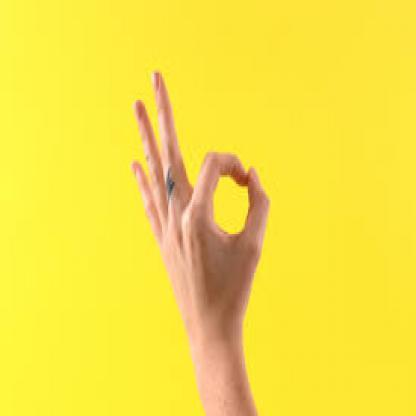ok: (128, 64, 272, 339)
